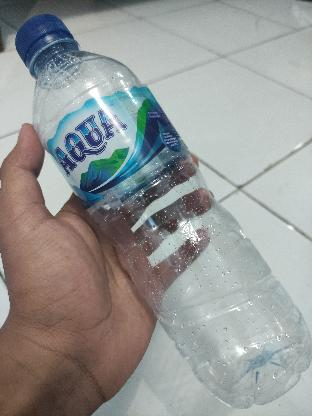Plastic Bottle: (11, 12, 312, 410)
